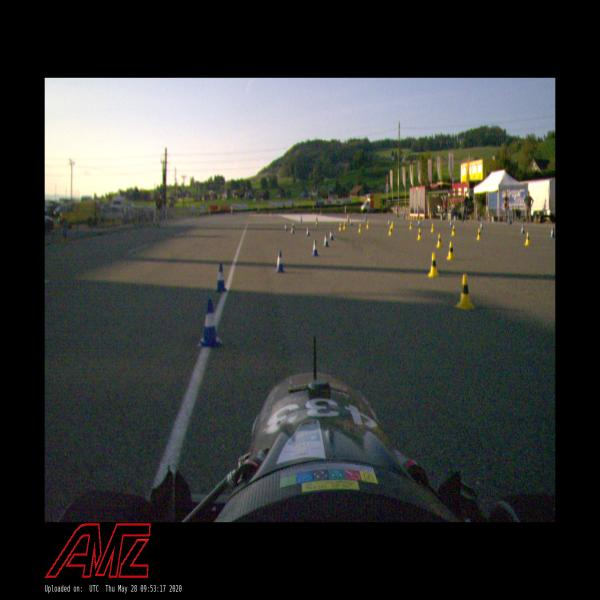blue_cone: (200, 298, 222, 348), (215, 263, 227, 293), (275, 250, 284, 273), (312, 240, 319, 256), (324, 233, 328, 248), (329, 229, 333, 241), (551, 227, 555, 239), (306, 226, 310, 236), (521, 224, 525, 234), (284, 222, 288, 231), (291, 225, 294, 234), (480, 221, 483, 230), (418, 219, 420, 226)
yellow_cone: (456, 273, 475, 312), (428, 252, 439, 278), (447, 241, 456, 261), (436, 234, 443, 248), (476, 228, 482, 241), (525, 231, 530, 246), (451, 224, 456, 238), (417, 228, 422, 241), (431, 222, 435, 234), (388, 225, 392, 236), (338, 222, 342, 232), (358, 224, 362, 234), (366, 220, 370, 230), (343, 222, 346, 231), (410, 221, 412, 230), (391, 221, 393, 229)
